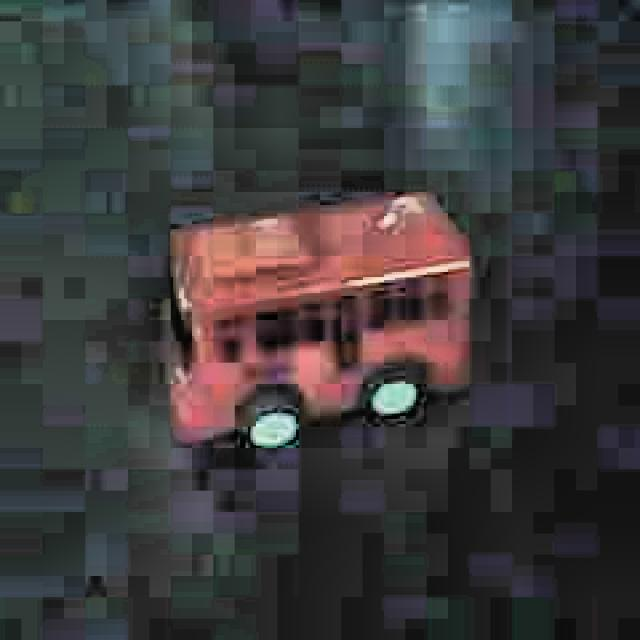bus: (155, 180, 482, 463)
